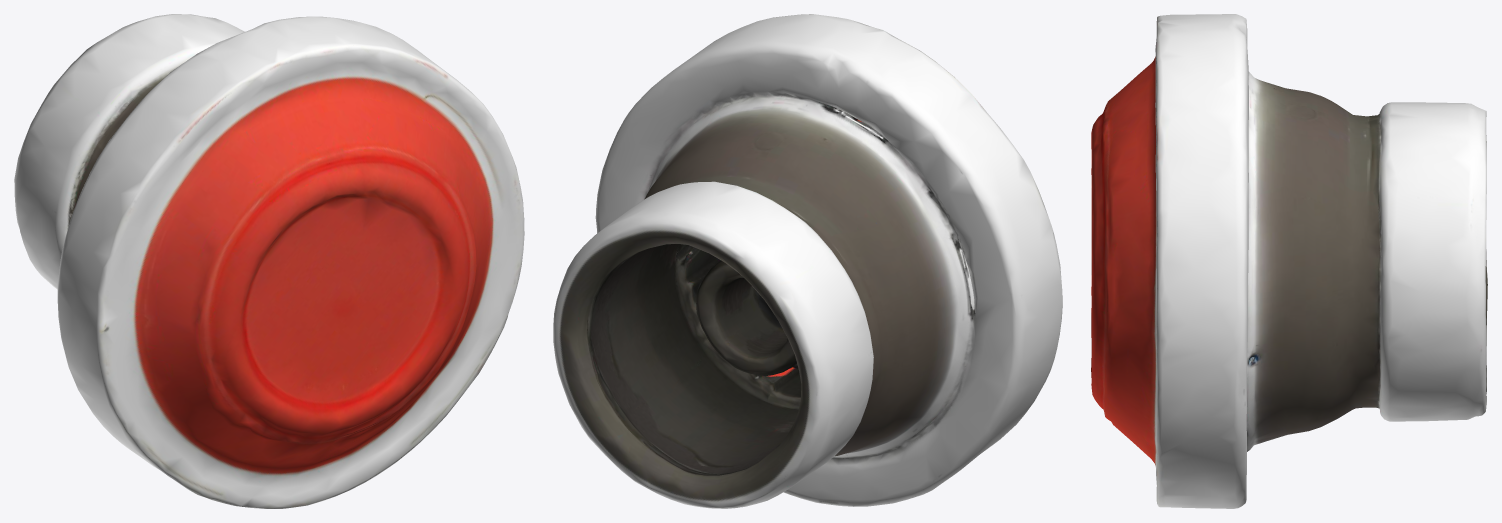
3 renders of one model, left to right at view 1: azimuth 30°, elevation 25°; view 2: azimuth 150°, elevation 25°; view 3: azimuth 270°, elevation 25°, orthographic.
Visible parts, largest first — view 1: Mesh1.0; view 2: Mesh1.0; view 3: Mesh1.0.
Part boxes in pixels (x1,y1,x2,y2): Mesh1.0: [14, 14, 524, 508]; Mesh1.0: [553, 14, 1062, 508]; Mesh1.0: [1091, 14, 1487, 508].
Bounding box in the file's own units: 175 × 178 × 141.
Materials: 1 (1 with a texture image).
